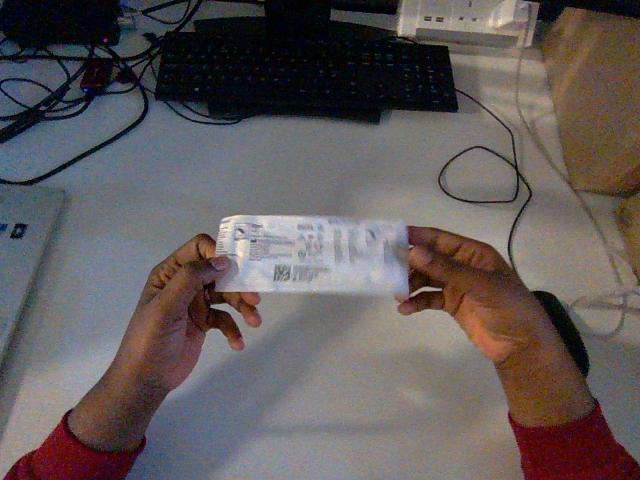syringe: (216, 215, 408, 295)
